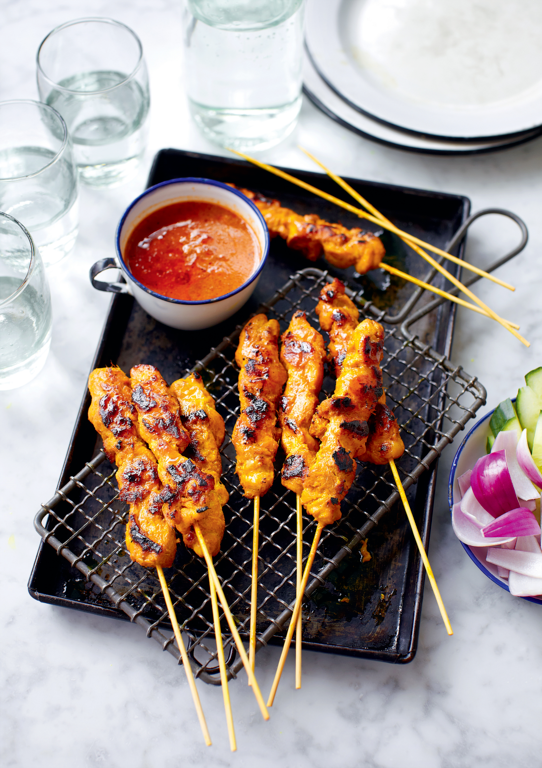sate: (264, 281, 455, 709), (86, 368, 229, 749), (231, 316, 279, 683)
